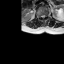CCS_normal: (42, 13, 43, 20)
LFS_stenosis: (45, 13, 47, 18)
LLS_normal: (43, 13, 45, 19)
RFS_stenosis: (39, 14, 40, 19)
RLS_normal: (40, 13, 42, 19)
